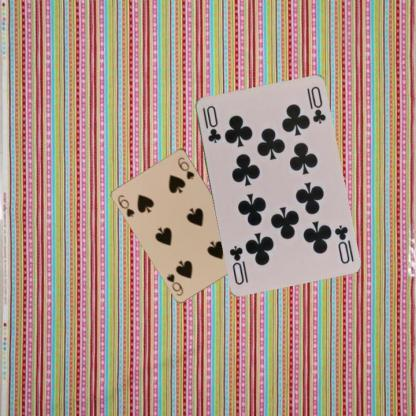10c: (199, 102, 222, 144), (331, 222, 351, 264)
6s: (115, 192, 136, 218)
